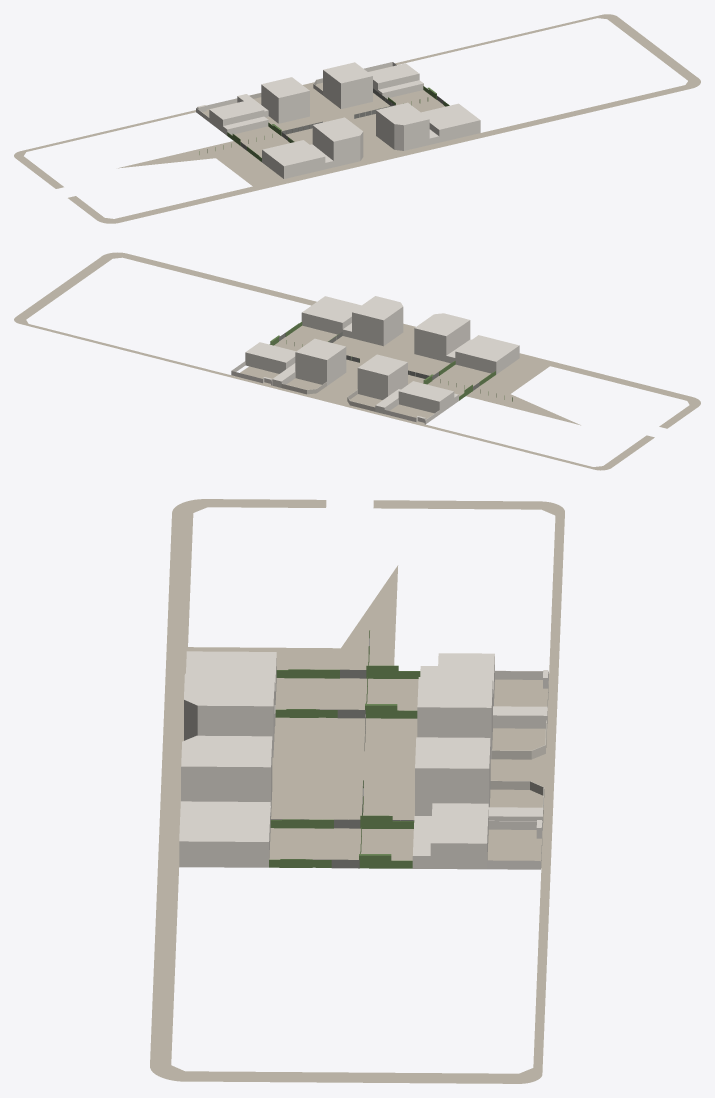
3 renders of one model, top to bottom at view 1: azimuth 30°, elevation 25°; view 2: azimuth 150°, elevation 25°; view 3: azimuth 270°, elevation 25°, orthographic. The views are drawn at different scales.
Visible parts, largest first — view 1: S1_suelo, entorno_suelo, S1_edif, N1_edif, N2_edif, S2_edif, N0_edif, S0_edif, N3_edif, entorno_edif, S3_edif, N2_suelo (+3 smaller); view 2: S1_suelo, entorno_suelo, N2_edif, S1_edif, N1_edif, S2_edif, N0_edif, S0_edif, N3_edif, S3_edif, S2_suelo, entorno_edif (+3 smaller); view 3: S1_suelo, entorno_suelo, N3_edif, S3_edif, S2_edif, N1_edif, N2_edif, S1_edif, N2_suelo, S2_suelo, N1_suelo, N0_suelo (+7 smaller).
Boxes of the visible parts, x1,y1,x2,y2 form: S1_suelo: [14, 14, 700, 223]; entorno_suelo: [118, 131, 287, 186]; S1_edif: [310, 117, 363, 169]; N1_edif: [237, 77, 309, 123]; N2_edif: [323, 62, 372, 108]; S2_edif: [376, 102, 439, 150]; N0_edif: [196, 98, 268, 135]; S0_edif: [262, 140, 325, 178]; N3_edif: [364, 62, 423, 98]; entorno_edif: [262, 110, 480, 178]; S3_edif: [421, 103, 480, 129]; N2_suelo: [316, 82, 430, 118]; S1_suelo: [14, 252, 700, 470]; entorno_suelo: [427, 358, 580, 425]; N2_edif: [272, 338, 346, 387]; S1_edif: [414, 313, 471, 363]; N1_edif: [357, 354, 407, 413]; S2_edif: [342, 296, 402, 360]; N0_edif: [384, 381, 458, 424]; S0_edif: [455, 335, 518, 374]; N3_edif: [231, 342, 295, 385]; S3_edif: [301, 296, 361, 334]; S2_suelo: [291, 327, 382, 357]; entorno_edif: [383, 307, 519, 374]; S1_suelo: [150, 499, 564, 1083]; entorno_suelo: [188, 565, 398, 718]; N3_edif: [412, 803, 542, 869]; S3_edif: [179, 801, 270, 867]; S2_edif: [181, 735, 363, 818]; N1_edif: [417, 677, 547, 759]; N2_edif: [415, 737, 543, 822]; S1_edif: [184, 673, 275, 757]; N2_suelo: [361, 788, 542, 864]; S2_suelo: [270, 787, 335, 859]; N1_suelo: [363, 718, 545, 758]; N0_suelo: [365, 678, 548, 710].
Size of the model in its own units: 292 by 12.01 by 87.69.
